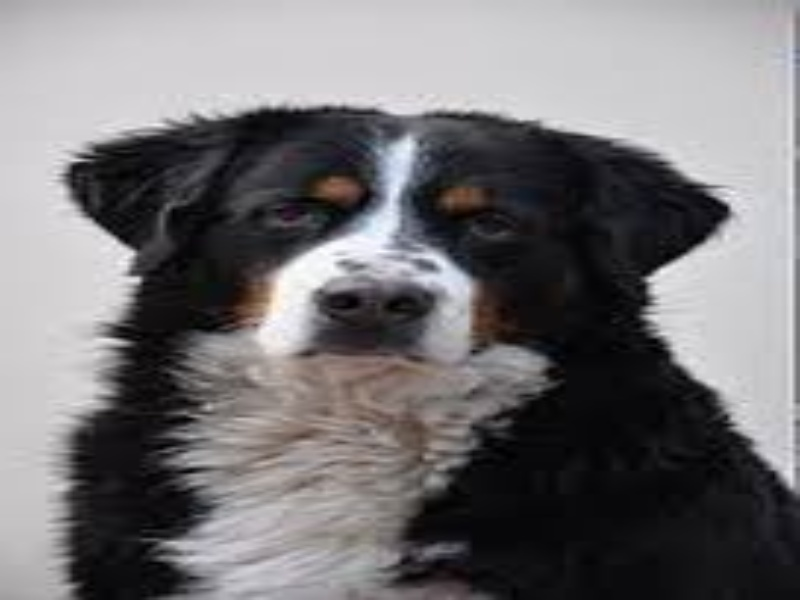dog: (49, 86, 763, 600)
